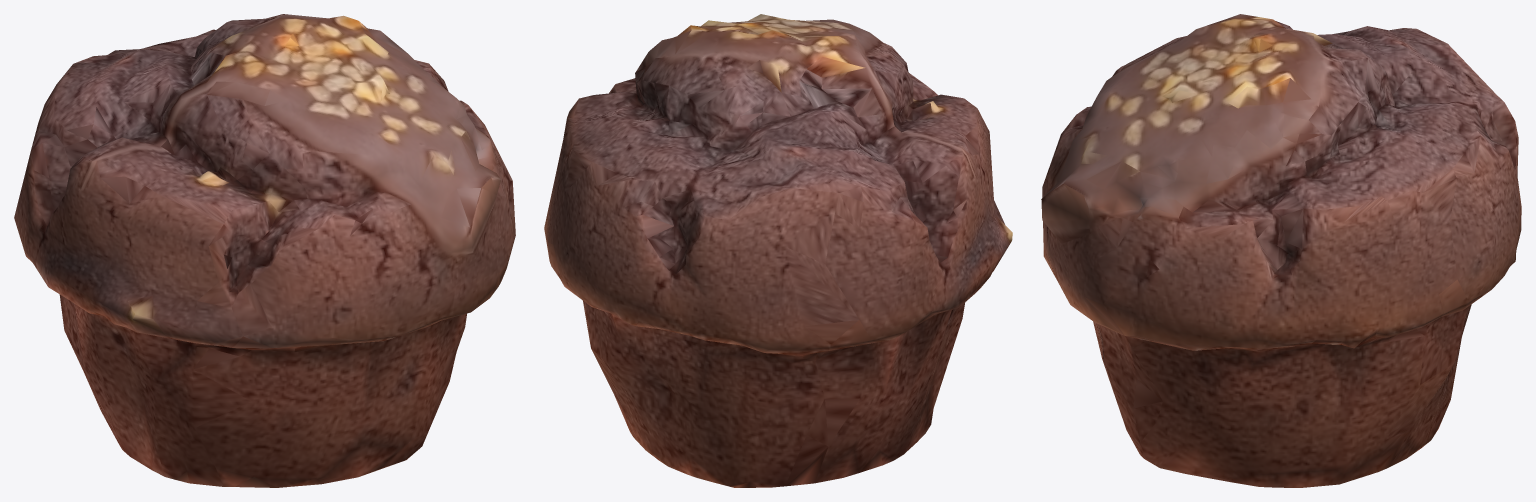
Rendered from muffin_1492.obj.
3 renders of one model, left to right at view 1: azimuth 30°, elevation 25°; view 2: azimuth 150°, elevation 25°; view 3: azimuth 270°, elevation 25°, orthographic. The views are drawn at different scales.
Bounding box in the file's own units: 14.27 × 12.98 × 14.34.
1 material, 1 textured.
